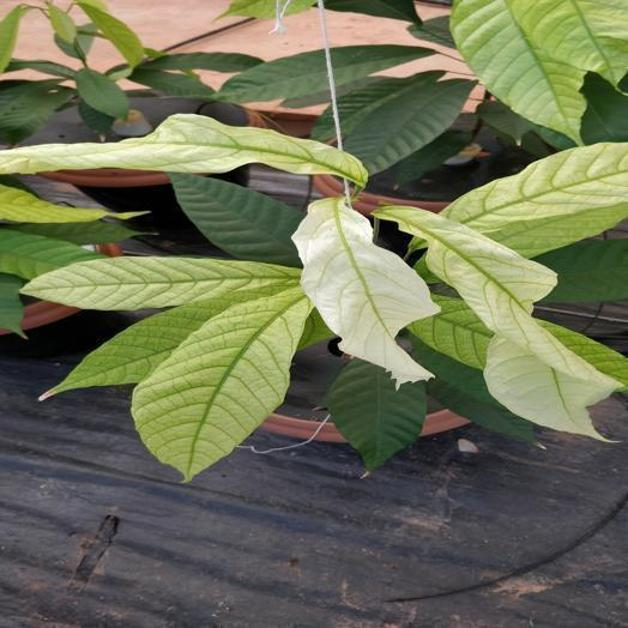Healthy Leaf: (168, 173, 302, 266), (345, 76, 470, 173), (328, 361, 426, 470), (410, 295, 491, 367), (222, 51, 327, 102), (0, 229, 102, 279), (0, 79, 73, 143), (339, 77, 413, 139), (331, 45, 433, 87), (135, 52, 262, 72), (78, 68, 127, 118), (313, 105, 330, 138)
Iron: (376, 206, 618, 439), (131, 287, 311, 480), (293, 198, 439, 387), (0, 114, 367, 186), (41, 289, 258, 398), (442, 143, 627, 256), (450, 0, 585, 143), (26, 256, 299, 310), (514, 0, 627, 86), (0, 184, 113, 223), (79, 0, 143, 66), (0, 5, 26, 71), (47, 2, 76, 43)
